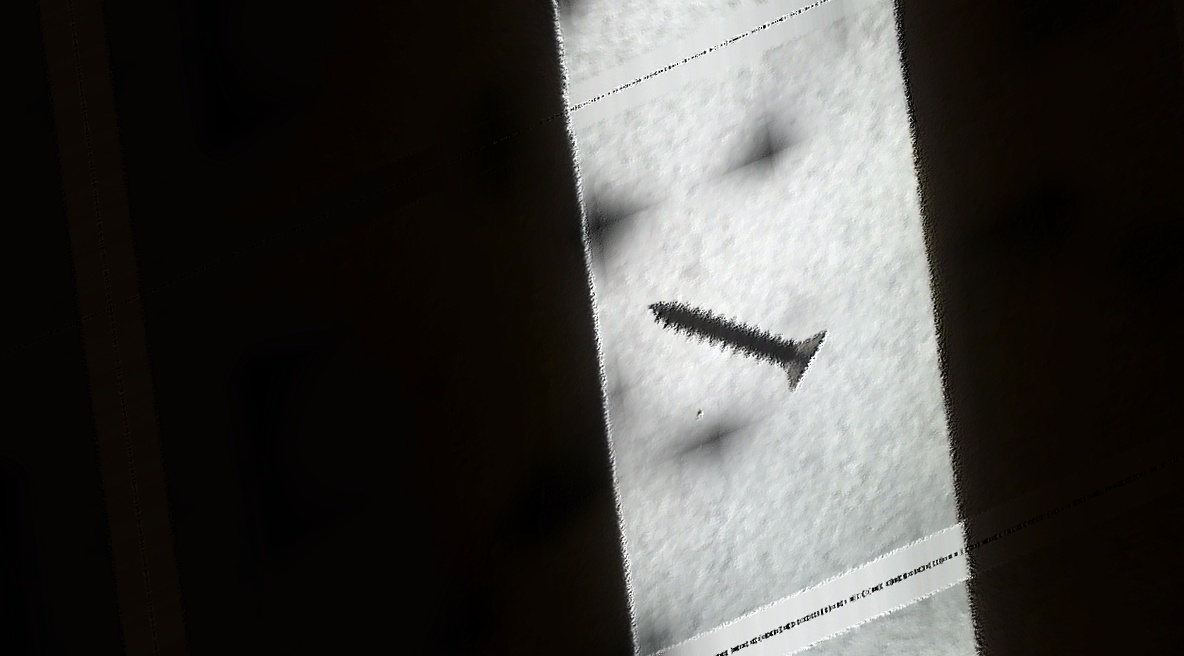S001: (637, 220, 849, 459)
